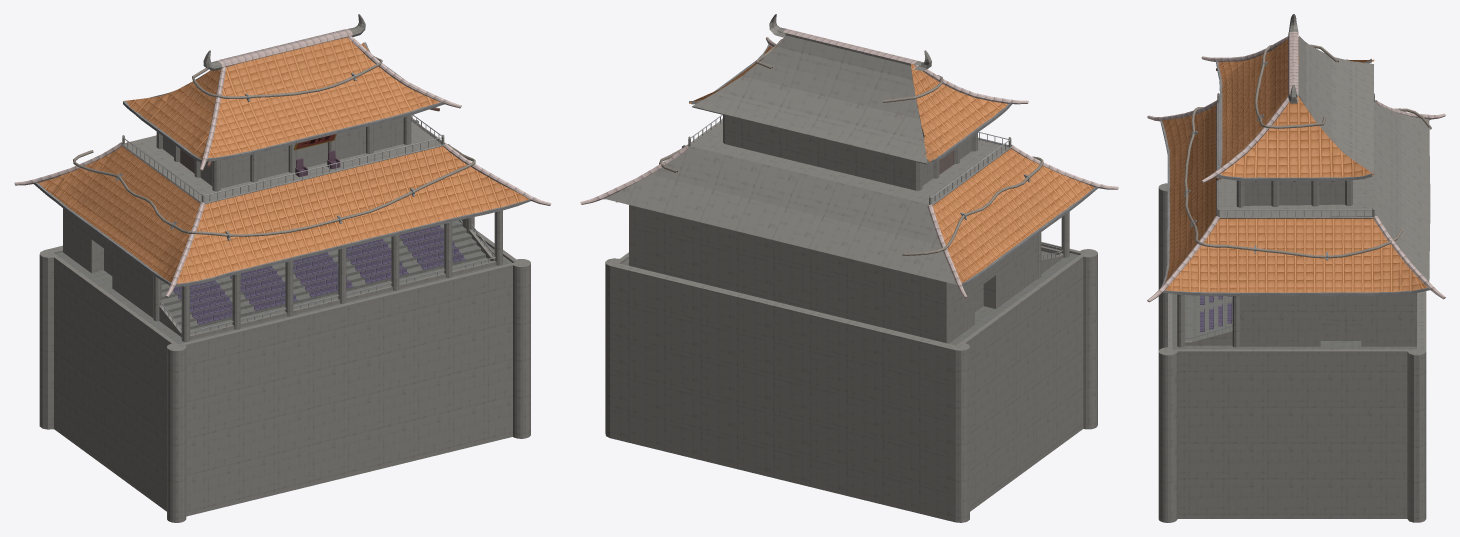
File: SM_ENV_TCHEXA_Building_A.fbx
3 views of the same model, side by side, from view 1: azimuth 30°, elevation 25°; view 2: azimuth 150°, elevation 25°; view 3: azimuth 270°, elevation 25° (orthographic). The views are drawn at different scales.
Parts seen in each view (by area): view 1: SM_ENV_TCHEXA_Building_A.mo; view 2: SM_ENV_TCHEXA_Building_A.mo; view 3: SM_ENV_TCHEXA_Building_A.mo.
Boxes of the visible parts, left/top/right/bottom form: SM_ENV_TCHEXA_Building_A.mo: left=14, top=14, right=551, bottom=522; SM_ENV_TCHEXA_Building_A.mo: left=580, top=14, right=1118, bottom=522; SM_ENV_TCHEXA_Building_A.mo: left=1147, top=14, right=1445, bottom=522.
Bounding box in the file's own units: 4339 × 4260 × 2976.
